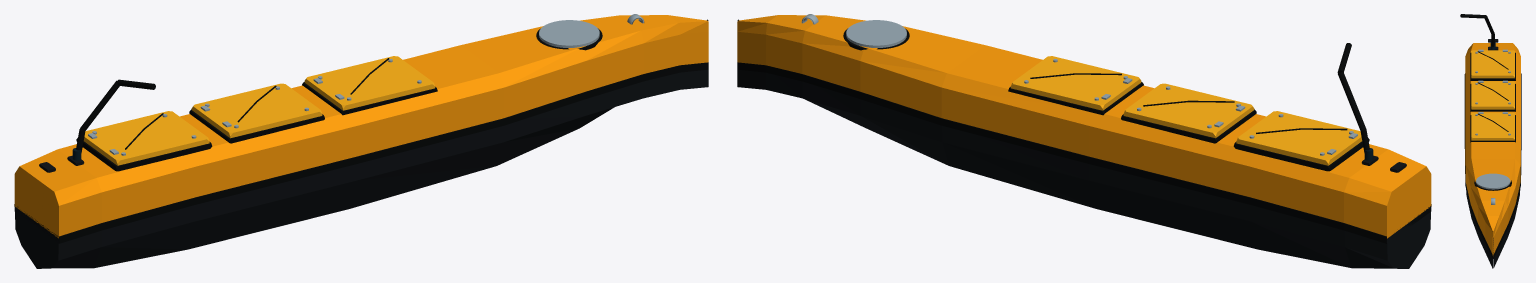
The model's file is hull_starboard.dae.
3 views of the same model, side by side, from view 1: azimuth 30°, elevation 25°; view 2: azimuth 150°, elevation 25°; view 3: azimuth 270°, elevation 25° (orthographic). The views are drawn at different scales.
Parts seen in each view (by area): view 1: node1, node0, node3, node2, node4; view 2: node1, node0, node3, node2, node4; view 3: node1, node3, node2, node4, node0.
Part boxes in pixels (x1,y1,x2,y2): node1: [14, 15, 708, 238]; node0: [14, 19, 708, 268]; node3: [83, 56, 435, 165]; node2: [14, 28, 708, 243]; node4: [88, 14, 644, 155]; node1: [737, 15, 1431, 238]; node0: [737, 19, 1430, 268]; node3: [1010, 56, 1362, 165]; node2: [737, 28, 1431, 243]; node4: [801, 14, 1357, 155]; node1: [1465, 43, 1520, 255]; node3: [1471, 50, 1514, 140]; node2: [1460, 14, 1521, 258]; node4: [1475, 49, 1510, 204]; node0: [1466, 39, 1520, 268].
Size of the model in its own units: 2.5 by 0.3487 by 0.6998.
